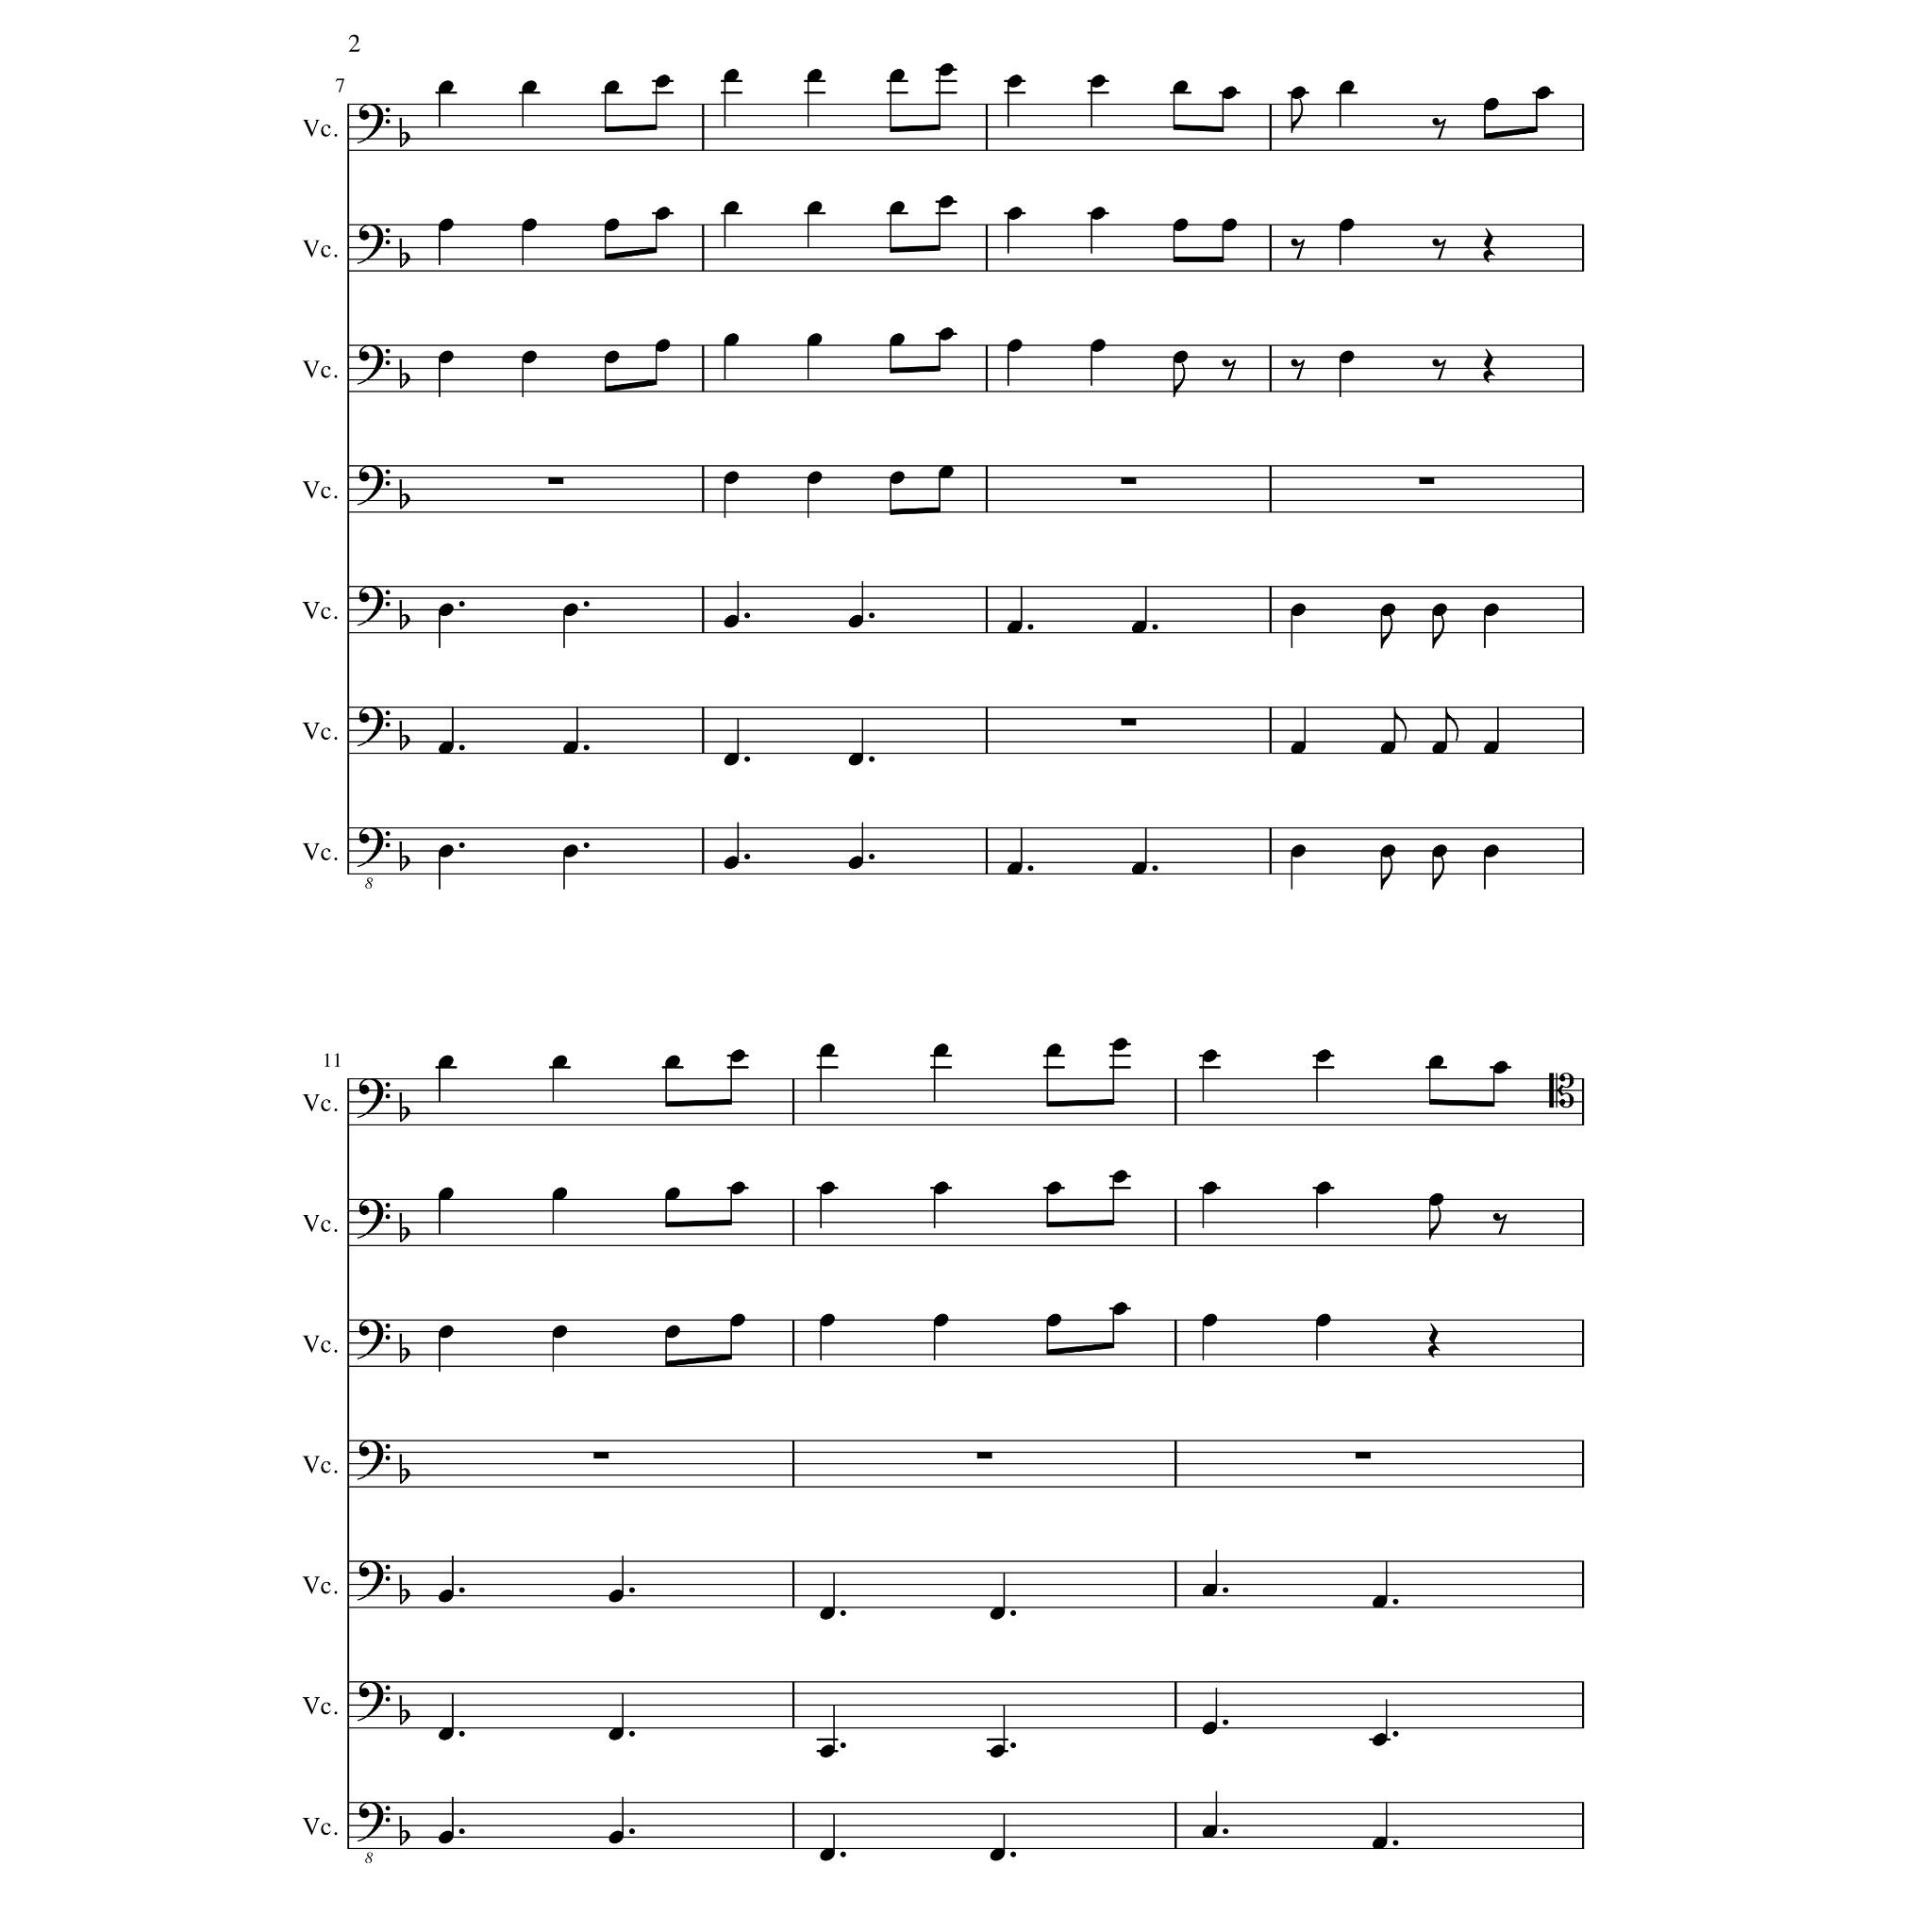fClef: (357, 103, 391, 143), (357, 225, 391, 265), (357, 345, 391, 386), (357, 465, 391, 506), (357, 586, 391, 626), (357, 706, 391, 747), (357, 826, 391, 867), (357, 1198, 391, 1238), (357, 1077, 391, 1118), (357, 1320, 391, 1361), (357, 1801, 391, 1842), (357, 1681, 391, 1721), (357, 1560, 391, 1601), (357, 1440, 391, 1481)
flag8thDown: (1173, 363, 1185, 396), (1292, 99, 1304, 133), (1433, 856, 1445, 890), (1433, 616, 1445, 649), (1380, 616, 1392, 649), (1380, 856, 1392, 890), (1430, 1205, 1440, 1240)
flag8thUp: (1445, 708, 1458, 741), (1394, 708, 1407, 741)
noteheadBlack: (1290, 87, 1306, 101), (1290, 603, 1306, 617), (1290, 741, 1306, 755), (1221, 87, 1237, 101), (1290, 844, 1306, 858), (1131, 862, 1146, 876), (1173, 350, 1189, 364), (1090, 74, 1106, 88), (1534, 87, 1550, 101), (1483, 844, 1499, 858), (1483, 97, 1499, 111), (1483, 603, 1499, 617), (1483, 741, 1499, 755), (1338, 350, 1353, 364), (1380, 603, 1396, 617), (1380, 741, 1396, 755), (1380, 844, 1396, 858), (1431, 603, 1447, 617), (1431, 741, 1447, 755), (1431, 844, 1447, 858), (563, 603, 579, 617), (563, 741, 579, 755), (563, 844, 579, 858), (522, 350, 538, 364), (724, 614, 740, 628), (724, 752, 740, 766), (603, 350, 619, 364), (655, 74, 671, 88), (437, 350, 453, 364), (437, 603, 453, 617), (437, 741, 453, 755), (437, 844, 453, 858), (847, 752, 863, 766), (847, 614, 863, 628), (1007, 74, 1023, 88), (1007, 862, 1023, 876), (938, 195, 954, 209), (938, 465, 954, 479), (1201, 1721, 1217, 1736), (1201, 1583, 1217, 1598), (989, 1606, 1005, 1621), (989, 1744, 1005, 1759), (1111, 1169, 1127, 1184), (1111, 1037, 1127, 1051), (1373, 1836, 1389, 1851), (1373, 1732, 1389, 1746), (609, 1589, 625, 1603), (609, 1829, 625, 1844), (609, 1727, 625, 1741), (437, 1829, 453, 1844), (552, 1325, 568, 1339), (552, 1187, 568, 1201), (437, 1727, 453, 1741), (437, 1589, 453, 1603), (437, 1325, 453, 1339), (437, 1187, 453, 1201), (665, 1325, 681, 1339), (665, 1187, 681, 1201), (819, 1606, 835, 1621), (819, 1744, 835, 1759), (1221, 219, 1237, 232), (1173, 219, 1189, 232), (1131, 621, 1146, 633), (1173, 81, 1189, 94), (1090, 207, 1106, 219), (1090, 340, 1106, 352), (1338, 81, 1353, 94), (1338, 219, 1353, 232), (522, 81, 538, 94), (522, 219, 538, 232), (603, 81, 619, 94), (724, 202, 740, 214), (724, 334, 740, 347), (724, 472, 740, 485), (724, 856, 740, 869), (603, 219, 619, 232), (655, 207, 671, 219), (655, 340, 671, 352), (724, 69, 740, 81), (437, 81, 453, 94), (437, 219, 453, 232), (890, 202, 906, 214), (890, 69, 906, 81), (890, 334, 906, 347), (890, 472, 906, 485), (847, 856, 863, 869), (1007, 207, 1023, 219), (1007, 340, 1023, 352), (1007, 621, 1023, 633), (938, 64, 954, 76), (938, 327, 954, 340), (807, 69, 823, 81), (807, 202, 823, 214), (807, 334, 823, 347), (807, 472, 823, 485), (1201, 1826, 1217, 1838), (1201, 1315, 1217, 1327), (1201, 1182, 1217, 1194), (1201, 1049, 1217, 1062), (1046, 1315, 1062, 1327), (1046, 1182, 1062, 1194), (1046, 1044, 1062, 1056), (989, 1849, 1005, 1861), (1111, 1302, 1127, 1315), (1316, 1315, 1332, 1327), (1316, 1182, 1332, 1194), (1316, 1049, 1332, 1062), (1428, 1194, 1444, 1207), (1428, 1056, 1444, 1069), (1373, 1596, 1389, 1608), (552, 1056, 568, 1069), (437, 1056, 453, 1069), (932, 1315, 948, 1327), (932, 1182, 948, 1194), (932, 1044, 948, 1056), (729, 1315, 745, 1327), (729, 1182, 745, 1194), (729, 1049, 745, 1062), (665, 1056, 681, 1069), (819, 1849, 835, 1861), (819, 1315, 835, 1327), (819, 1182, 835, 1194), (819, 1044, 835, 1056), (1493, 1062, 1507, 1074)
rest8th: (1290, 239, 1306, 262), (1431, 239, 1447, 262), (1290, 359, 1306, 380), (1221, 359, 1237, 380), (1431, 119, 1447, 140), (1431, 359, 1447, 380), (1493, 1212, 1507, 1235)
restQuarter: (1483, 349, 1495, 384), (1428, 1323, 1440, 1359), (1483, 228, 1495, 262)
restWhole: (1120, 718, 1136, 727), (1120, 478, 1136, 485), (548, 478, 564, 485), (1419, 478, 1435, 485), (977, 1453, 993, 1460), (1353, 1453, 1369, 1460), (593, 1453, 609, 1460)
